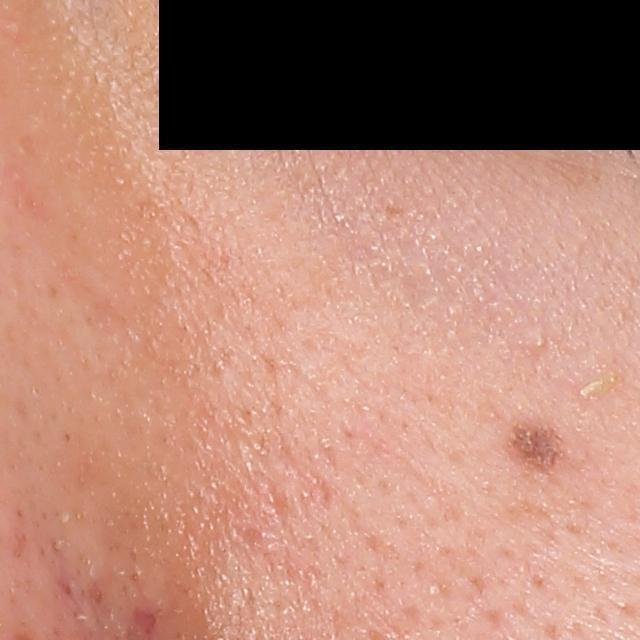comedo: (530, 329, 552, 351)
other: (505, 416, 574, 467)
